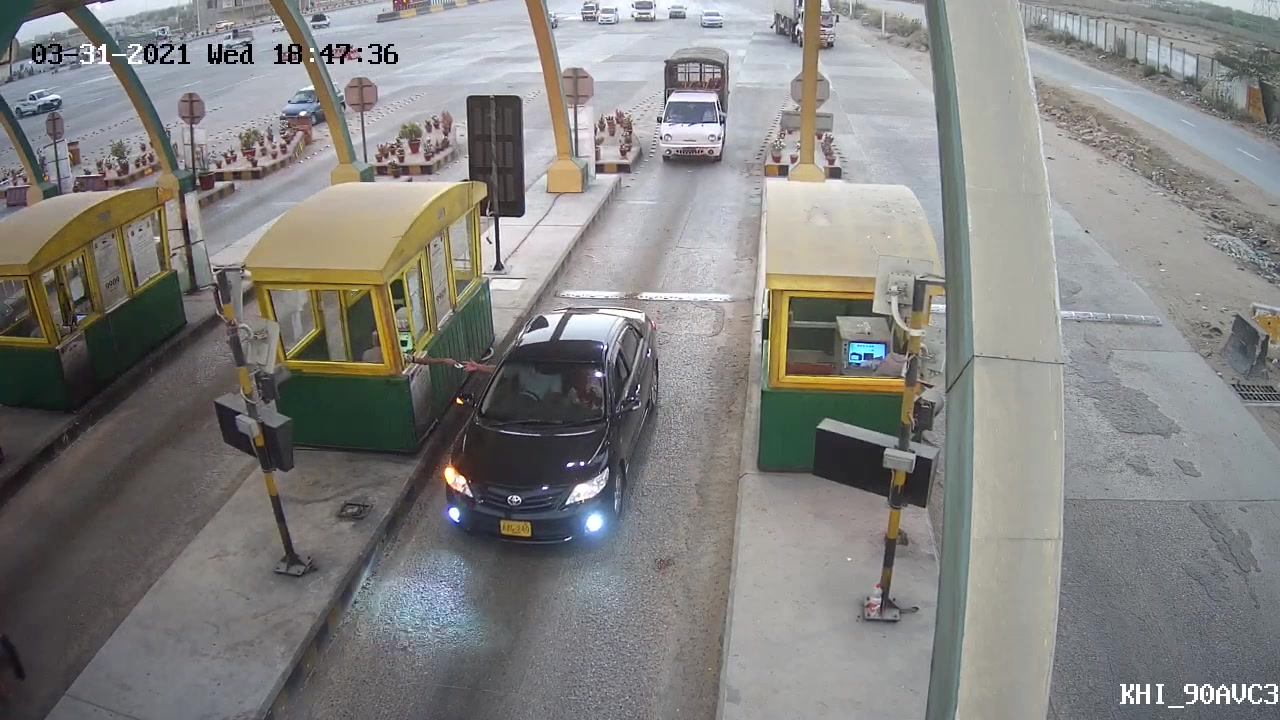F1: (432, 296, 664, 556)
